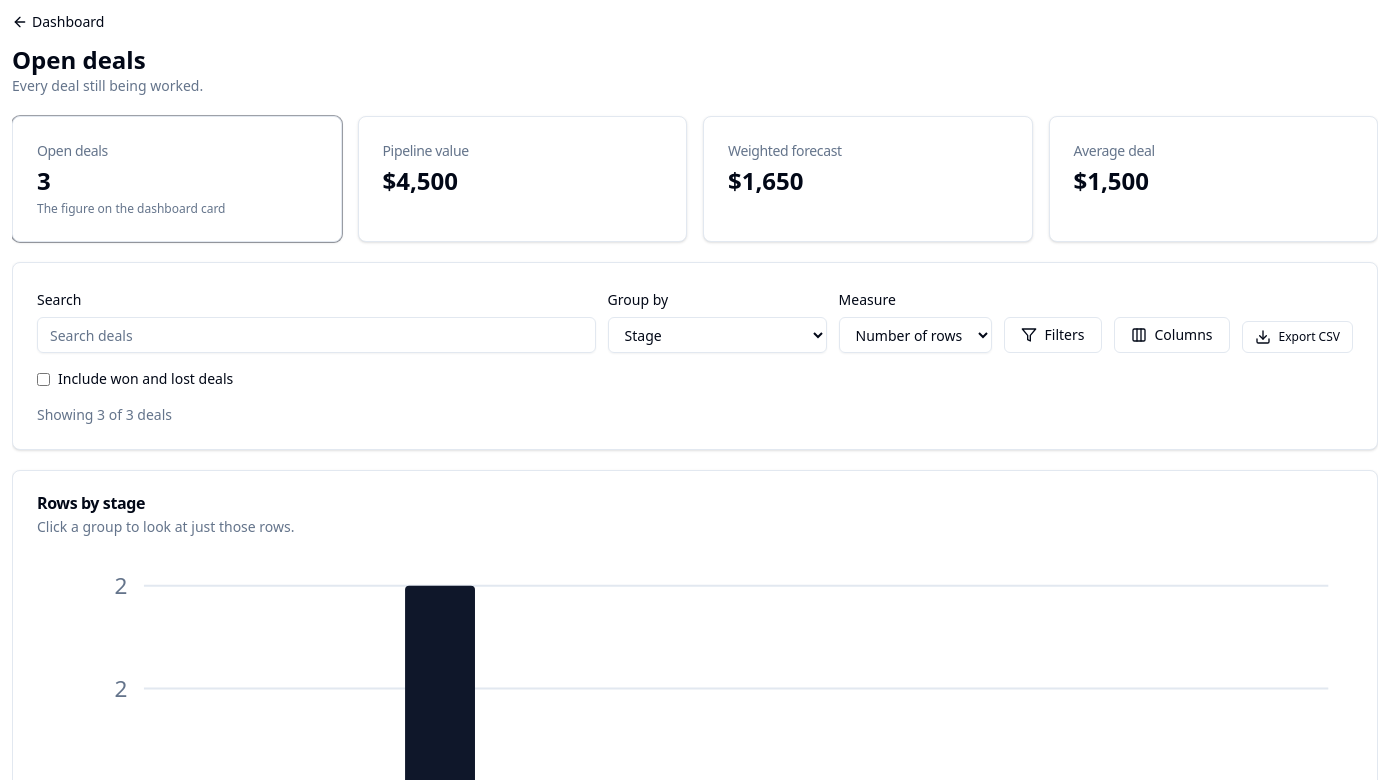
Test case: Analyse: open deals › narrows the rows and the figures as you type in the search box
Type "acme" into the search field labelled "Search".
click(316, 335); type("acme")  # box x1=37 y1=317 x2=596 y2=353
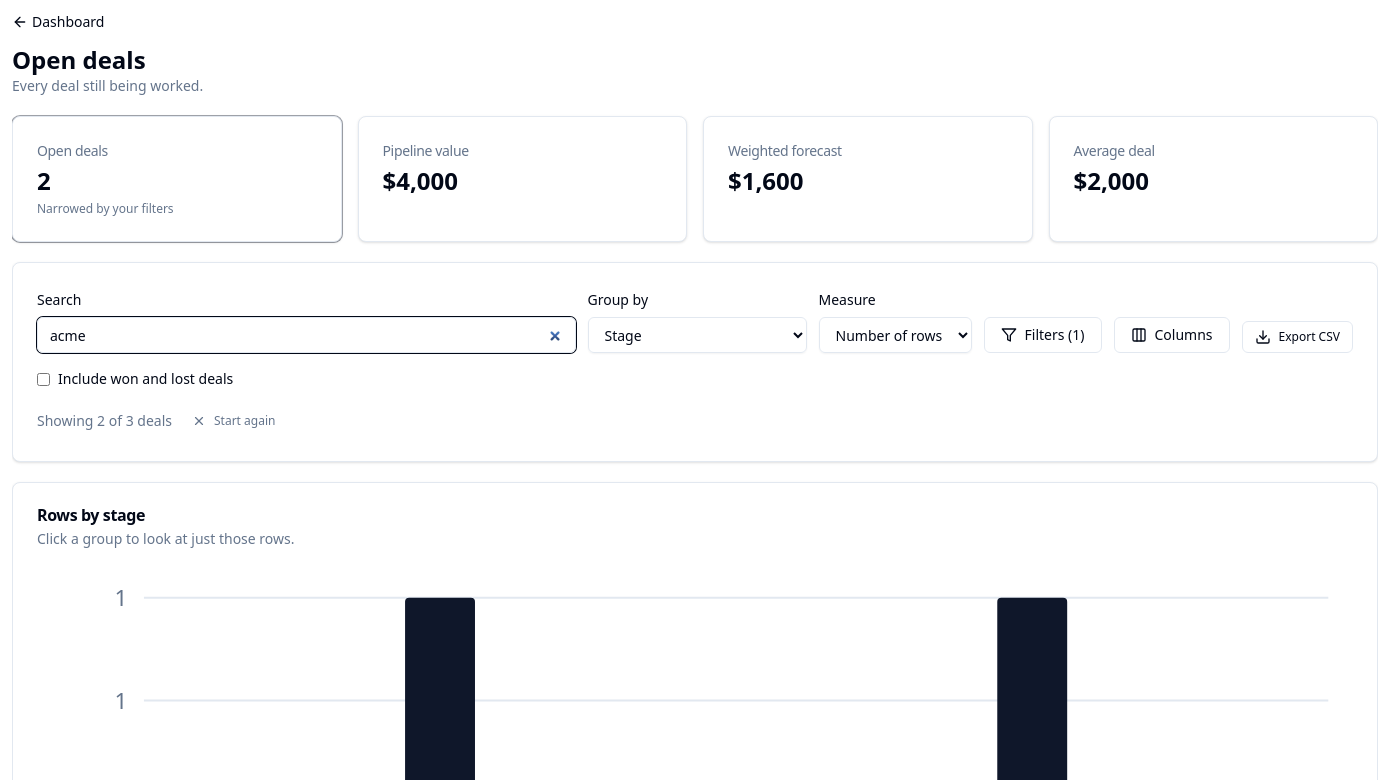
Check: the text "Showing 2 of 3 deals" is shown, box x1=37 y1=411 x2=172 y2=431
